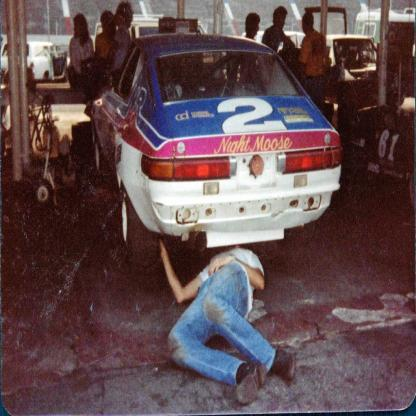Car: (86, 22, 351, 250), (351, 92, 416, 212), (99, 14, 208, 53), (1, 41, 73, 80), (248, 32, 315, 60)
